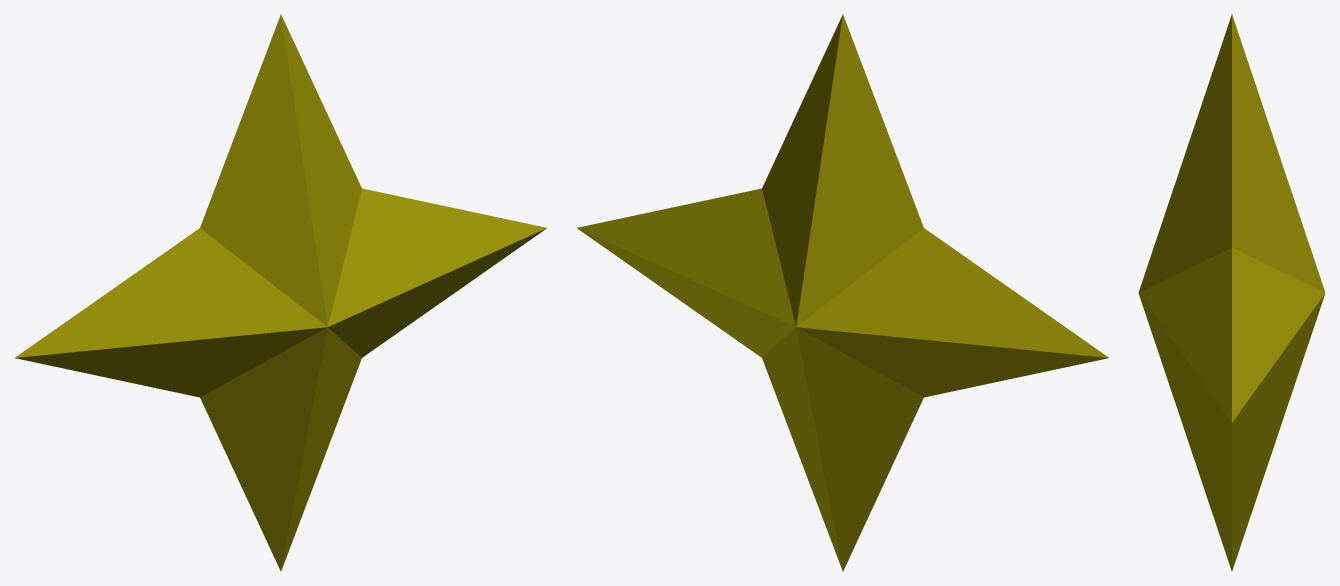
The model's file is Pick_Up.fbx.
3 renders of one model, left to right at view 1: azimuth 30°, elevation 25°; view 2: azimuth 150°, elevation 25°; view 3: azimuth 270°, elevation 25°, orthographic.
Visible parts, largest first — view 1: Pick_Up; view 2: Pick_Up; view 3: Pick_Up.
Boxes of the visible parts, <box> form: Pick_Up: <box>15,14,546,571</box>; Pick_Up: <box>577,14,1108,571</box>; Pick_Up: <box>1138,14,1325,571</box>.
Bounding box in the file's own units: 1.23 × 1.23 × 0.3731.
